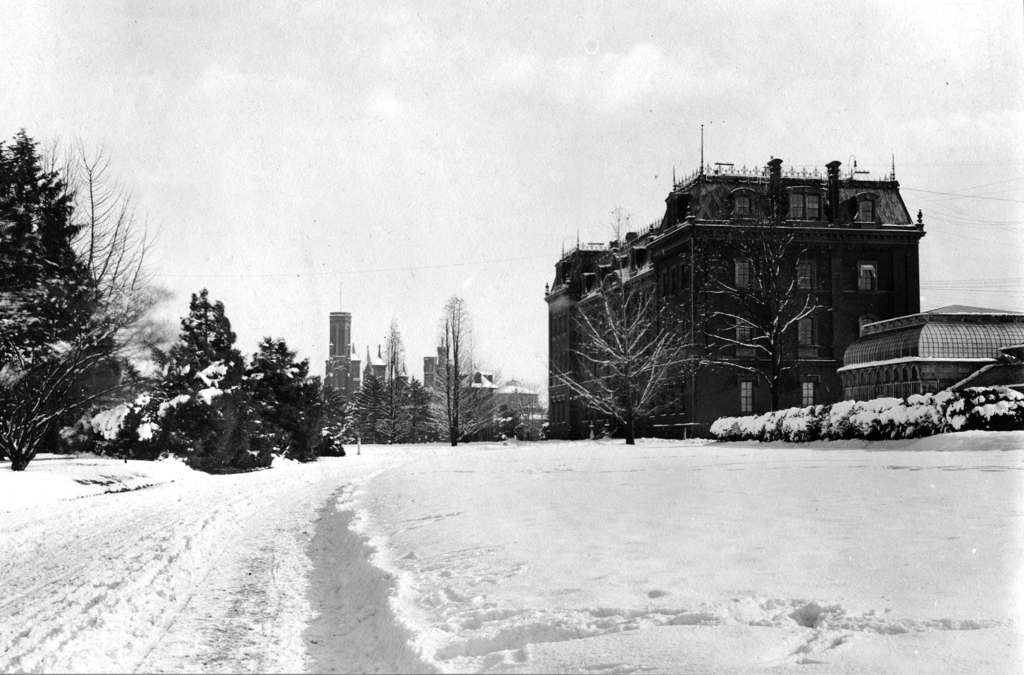Tree: (27, 126, 181, 475), (532, 197, 696, 449), (0, 126, 97, 465), (697, 174, 826, 425), (149, 279, 256, 473), (243, 329, 359, 464), (430, 289, 506, 451), (341, 352, 435, 441), (504, 349, 551, 443), (372, 310, 405, 443)
